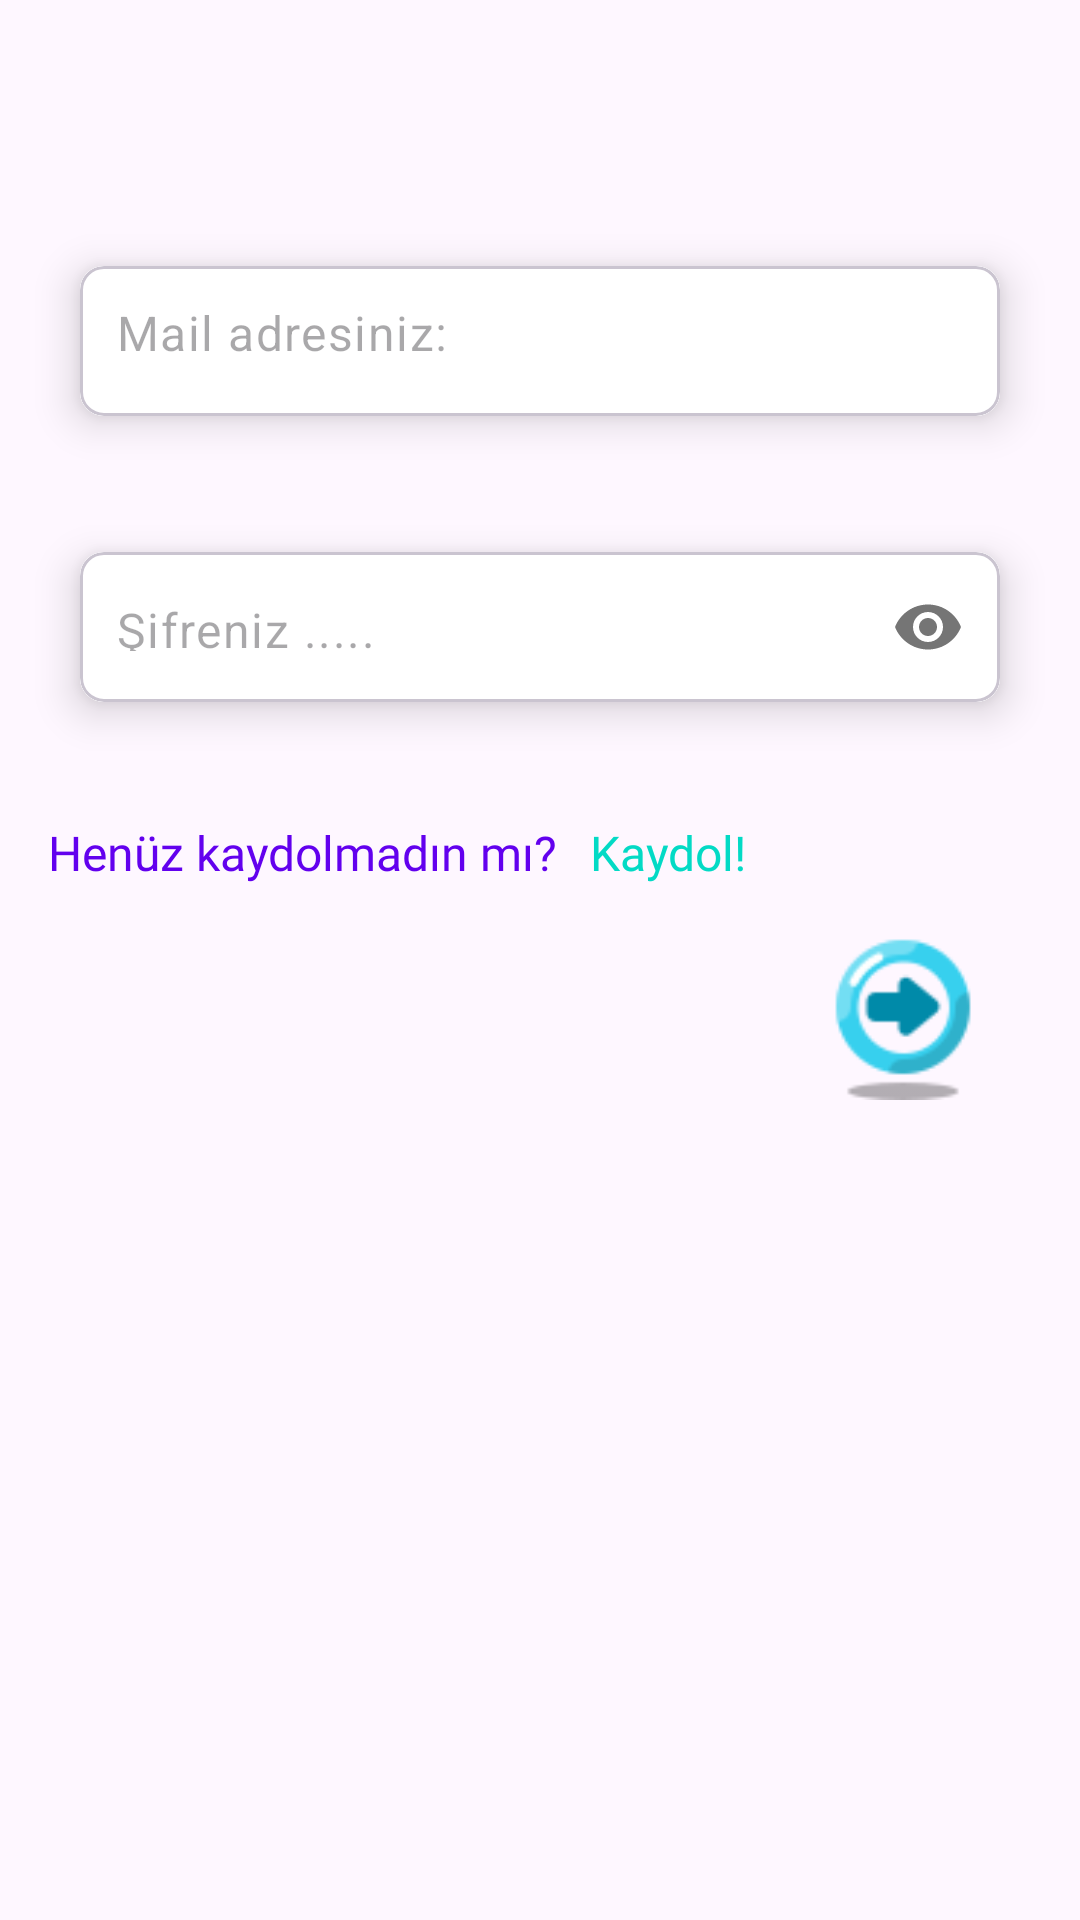

Icon click points for this 1080×1920 phone screenshot, format (x,y):
nextt: (903,1019)
